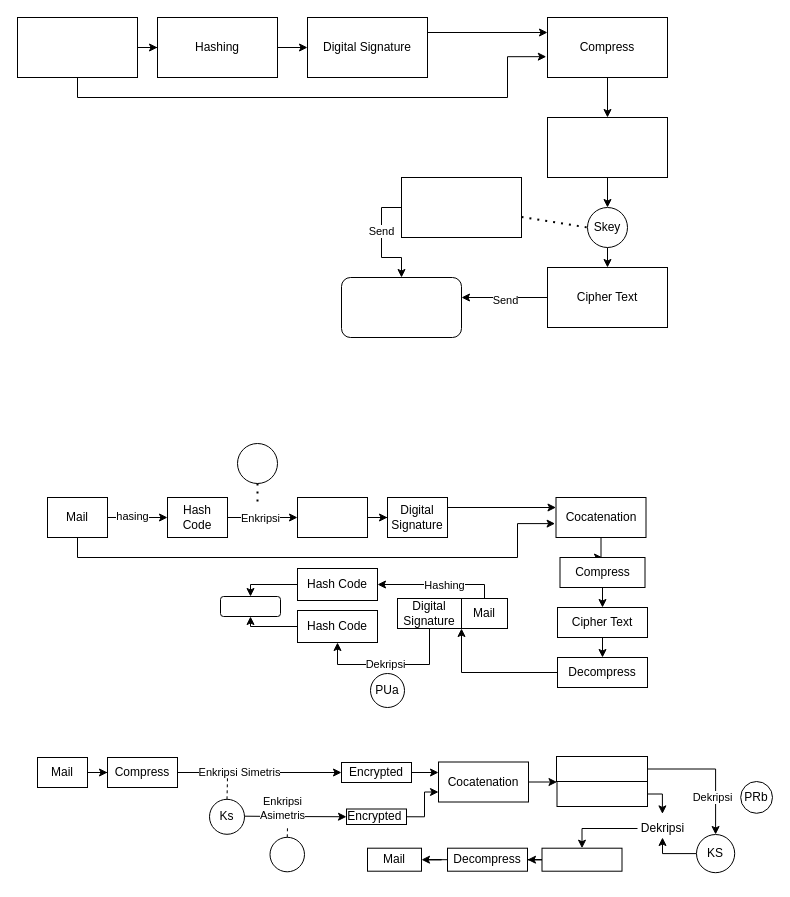
The diagram is 790 pixels wide and 897 high, and some of its shapes have lost their labels. Each missing label, with the box of its shape:
Compare: (220, 596, 280, 616)
Decrypted: (541, 847, 622, 871)
E(M): (556, 780, 648, 806)
E(PuB, Ks): (556, 756, 648, 782)
Email: (16, 16, 138, 78)
Encrypt: (400, 176, 522, 238)
Encryption: (546, 116, 668, 178)
PRa: (236, 442, 278, 484)
PUb: (269, 836, 304, 872)
Public Key Encryption: (296, 496, 368, 538)
Receiver: (340, 276, 462, 338)
